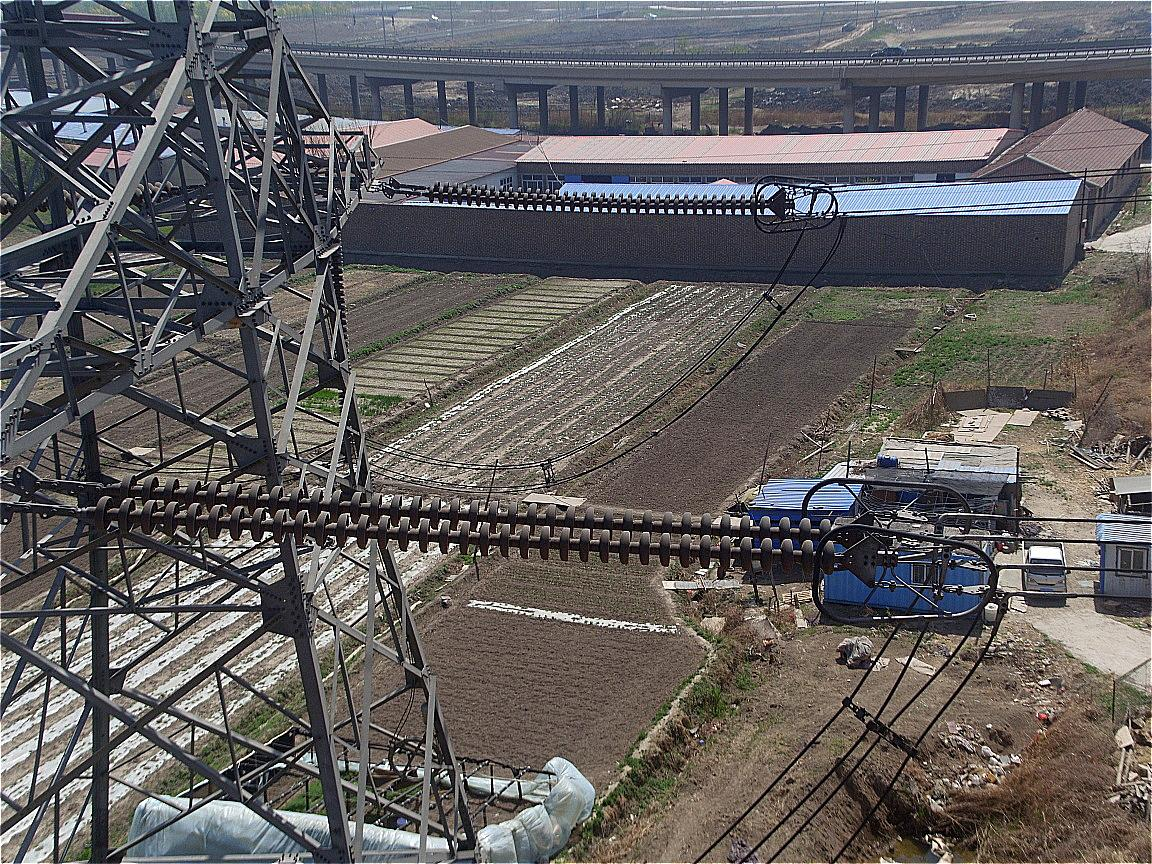insultor1: (96, 466, 856, 582), (421, 176, 772, 223)
